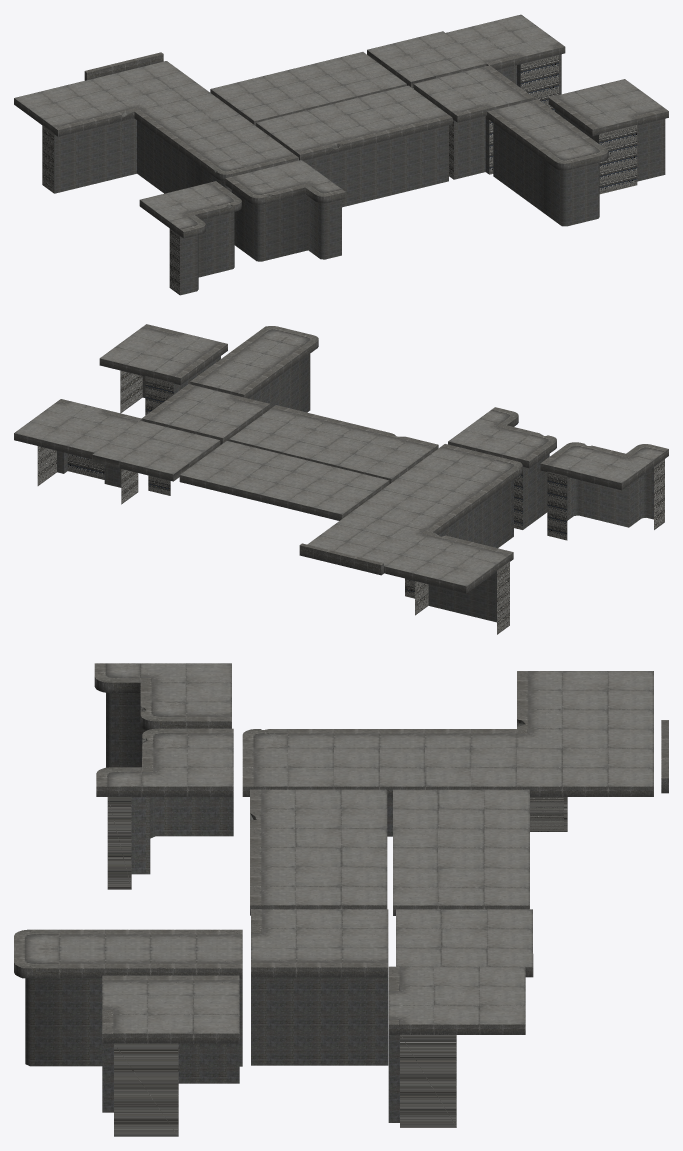
The model's file is wharf_01.FBX.
The picture shows the model from 3 angles, top to bottom: view 1: azimuth 30°, elevation 25°; view 2: azimuth 150°, elevation 25°; view 3: azimuth 270°, elevation 25°; orthographic projection. The views are drawn at different scales.
Visible parts, largest first — view 1: 7, 2, 6, 12, 8, 1, 10, Object153, 11, Object152, 14, 3 (+3 smaller); view 2: 1, 8, 7, 6, 11, 12, 3, 2, Object153, 10, 9, 5 (+3 smaller); view 3: 10, 12, 7, 8, 11, 2, Object152, 5, 1, Object153, 6, 3 (+2 smaller).
Boxes of the visible parts, box(x1,y1,x2,y2) form: 7: box(256, 85, 452, 207); 2: box(225, 159, 345, 261); 6: box(14, 79, 134, 193); 12: box(548, 79, 668, 194); 8: box(210, 52, 406, 125); 1: box(139, 181, 241, 295); 10: box(413, 65, 533, 179); Object153: box(134, 93, 254, 193); 11: box(445, 14, 565, 111); Object152: box(531, 131, 608, 226); 14: box(487, 99, 581, 208); 3: box(178, 125, 298, 191); 1: box(540, 442, 668, 540); 8: box(179, 440, 389, 520); 7: box(229, 405, 438, 483); 6: box(385, 532, 513, 634); 11: box(14, 399, 142, 504); 12: box(99, 324, 227, 415); 3: box(398, 444, 522, 548); 2: box(448, 407, 556, 529); Object153: box(351, 478, 479, 597); 10: box(142, 384, 269, 495); 9: box(92, 420, 220, 481); 5: box(307, 512, 431, 614); 10: box(251, 909, 388, 1065); 12: box(102, 975, 239, 1136); 7: box(250, 789, 387, 915); 8: box(393, 789, 529, 915); 11: box(388, 966, 525, 1127); 2: box(96, 728, 233, 889); Object152: box(14, 929, 105, 1066); 5: box(517, 729, 653, 831); 1: box(94, 663, 231, 767); Object153: box(379, 729, 516, 836); 6: box(517, 671, 653, 831); 3: box(242, 729, 379, 796).
Bounding box in the file's own units: 7655 × 5722 × 1072.
2 materials, 2 textured.
